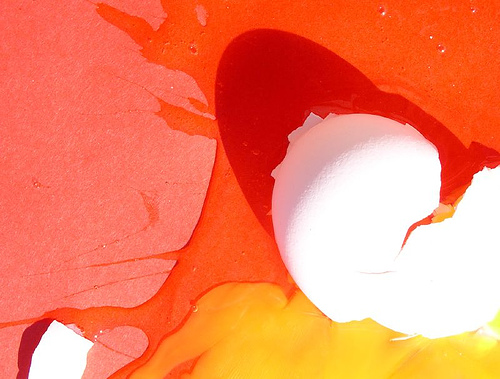egg: (120, 35, 499, 378)
